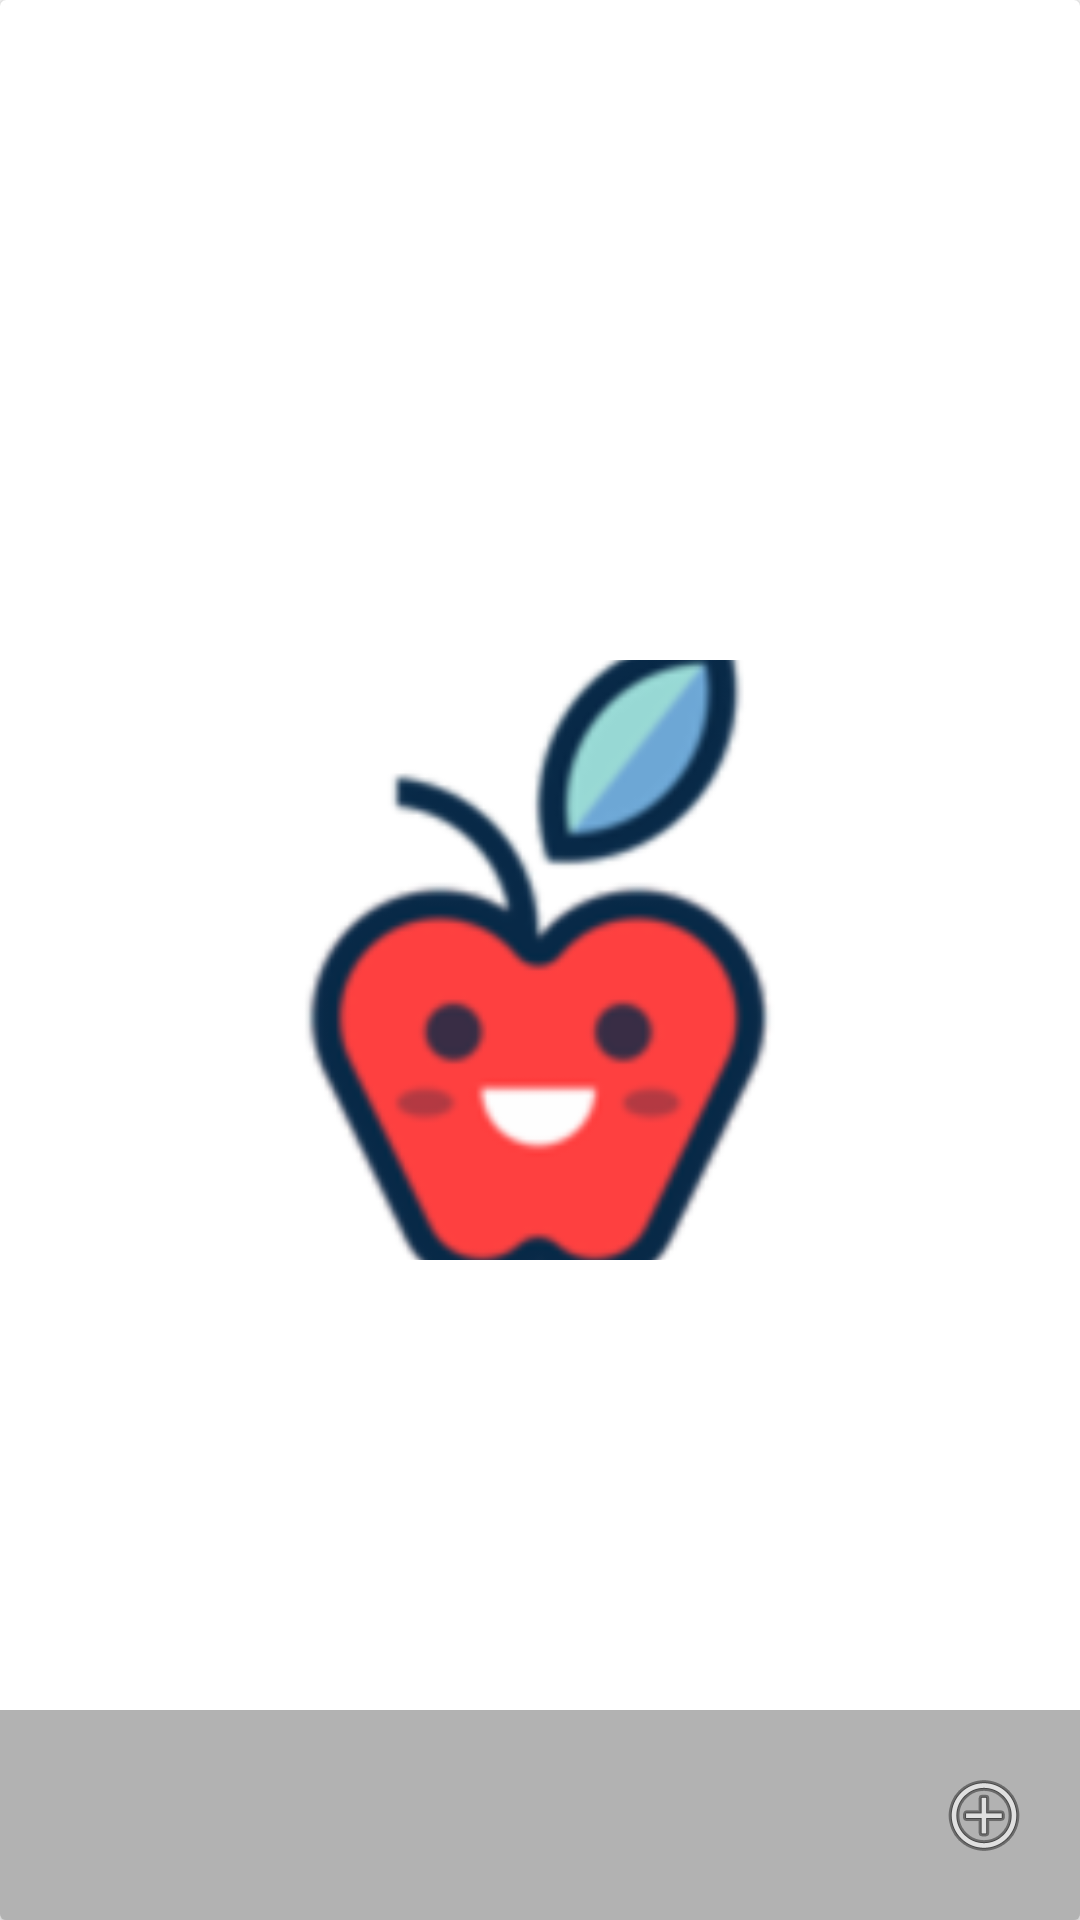

Named icons in this screenshot (1080*1920) and their centers, point (x, y):
add: point (984, 1815)
